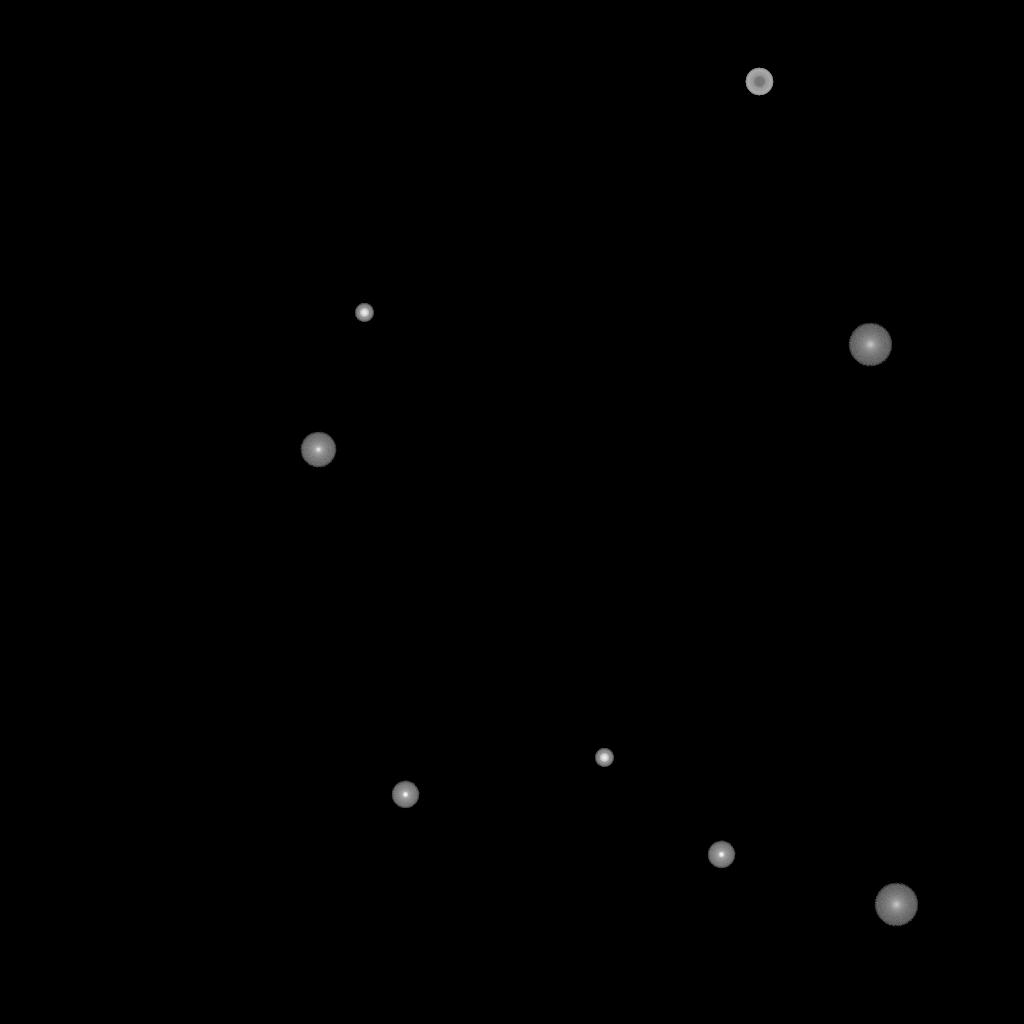depth:-10: (707, 841, 735, 869), (391, 781, 419, 809)
depth:-20: (595, 749, 613, 767), (355, 304, 373, 322)
depth:-50: (745, 68, 773, 96)
depth:0: (300, 432, 336, 468)
depth:10: (848, 323, 892, 367), (874, 883, 918, 927)
